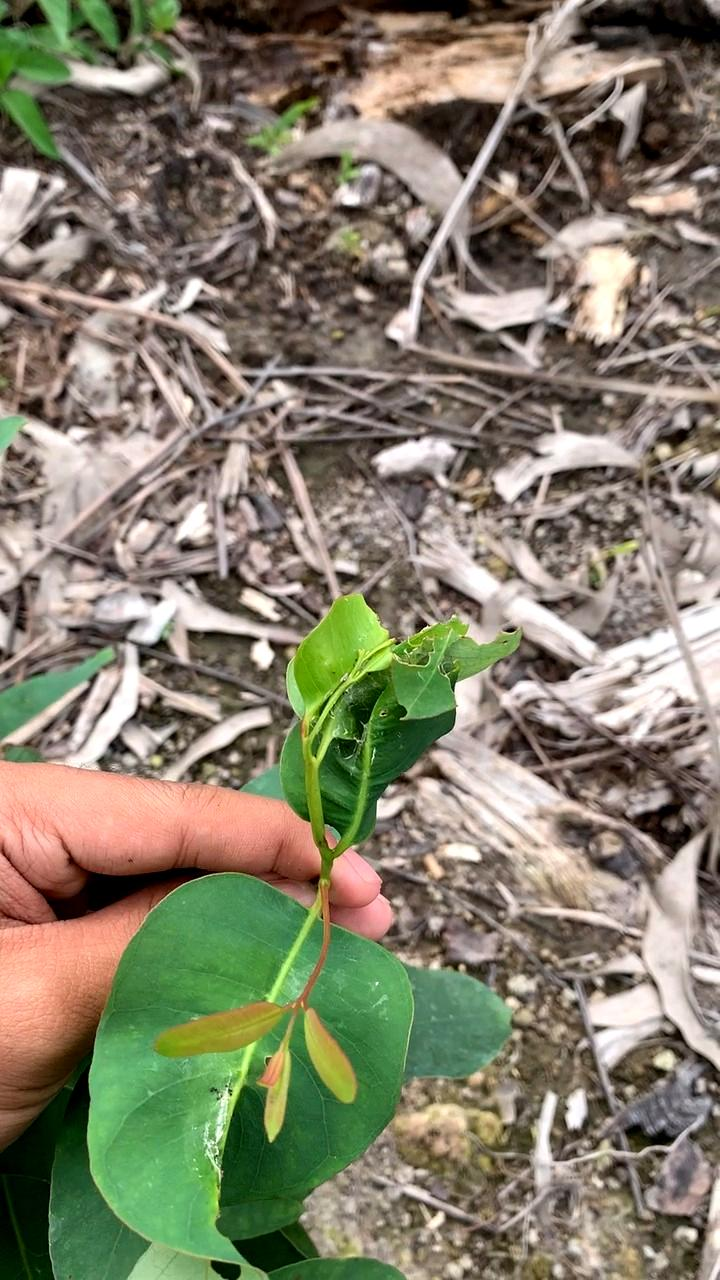Leaf Roller - Leaf: (281, 586, 533, 853)
